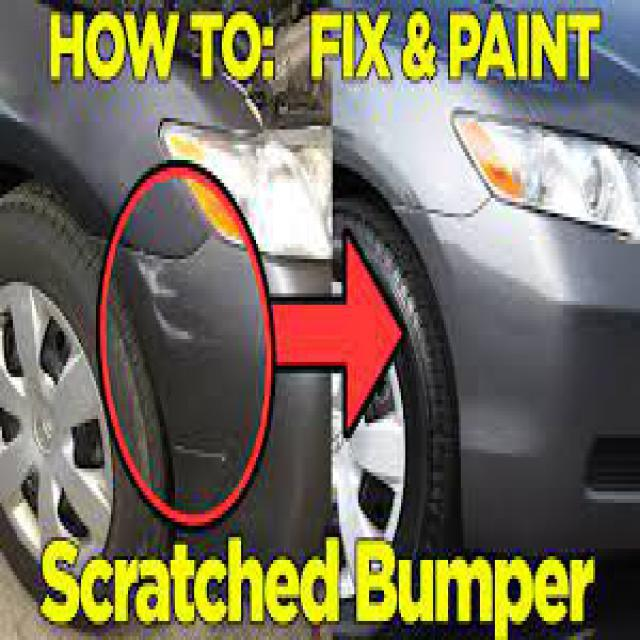front-bumper-dent: (53, 198, 337, 594)
